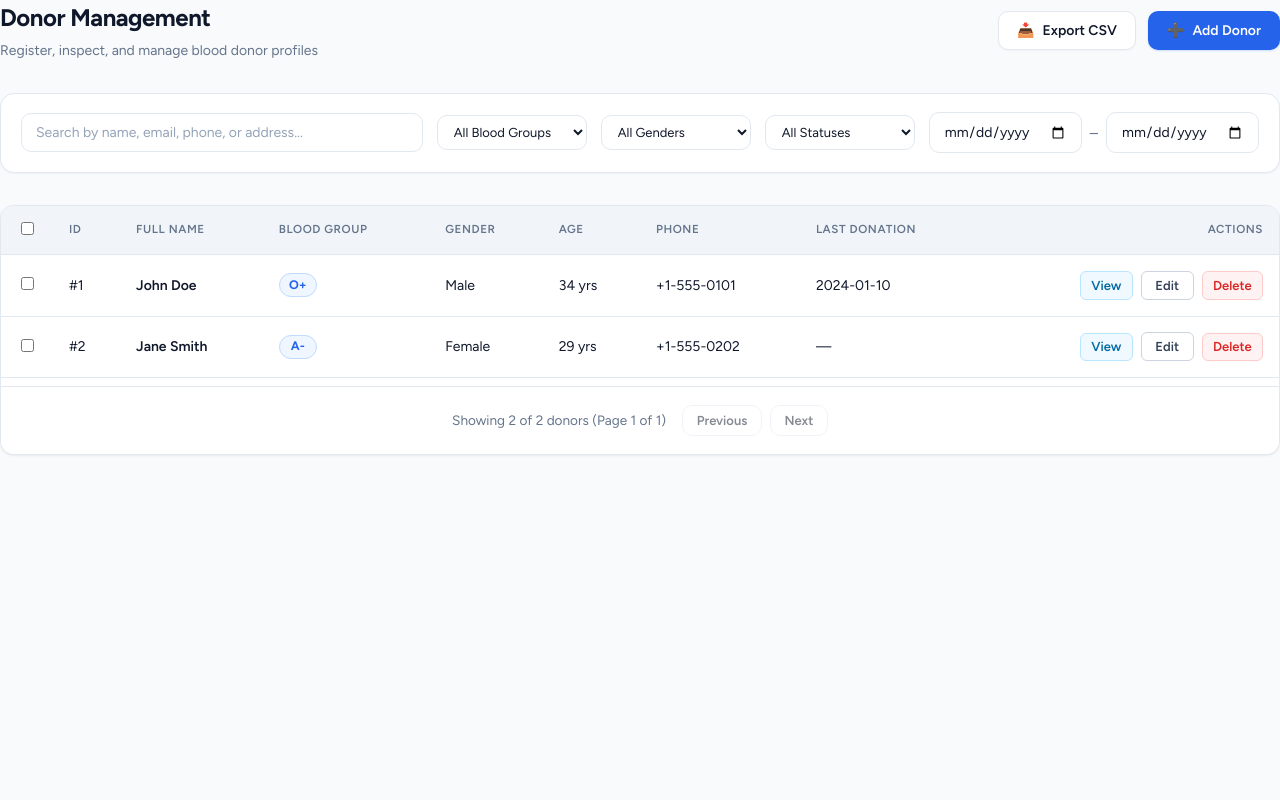
Scenario: Donors Page Component › submits valid Add Donor form and refreshes list
Click the button with test id "add-donor-btn" at {"x": 1214, "y": 30}, box [1148,11,1279,50]
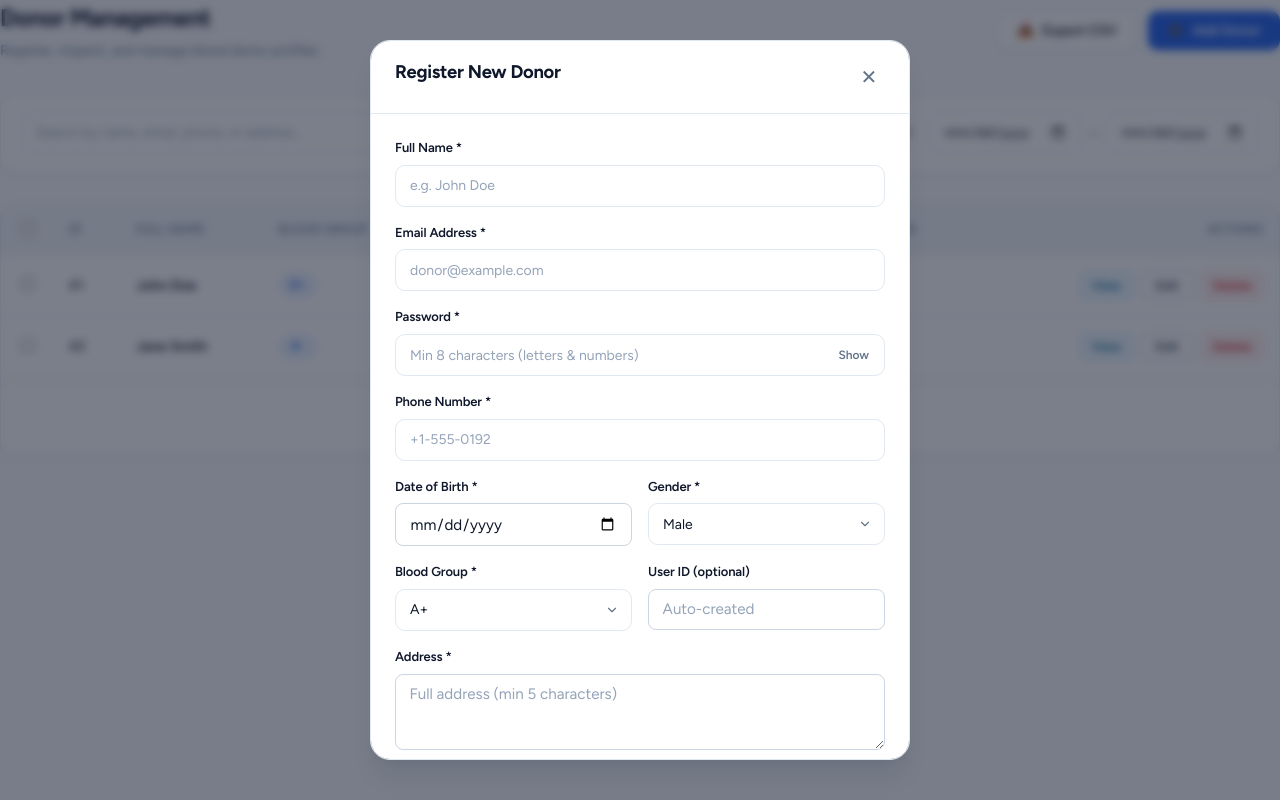
Type "New Test Donor" into the field labelled "Full Name *" at {"x": 640, "y": 186}, box [395,165,885,207]
Type "newdonor@example.com" into the field labelled "Email Address *" at {"x": 640, "y": 270}, box [395,249,885,291]
Type "SecurePass123!" into the password field labelled "Password *" at {"x": 640, "y": 355}, box [395,334,885,376]
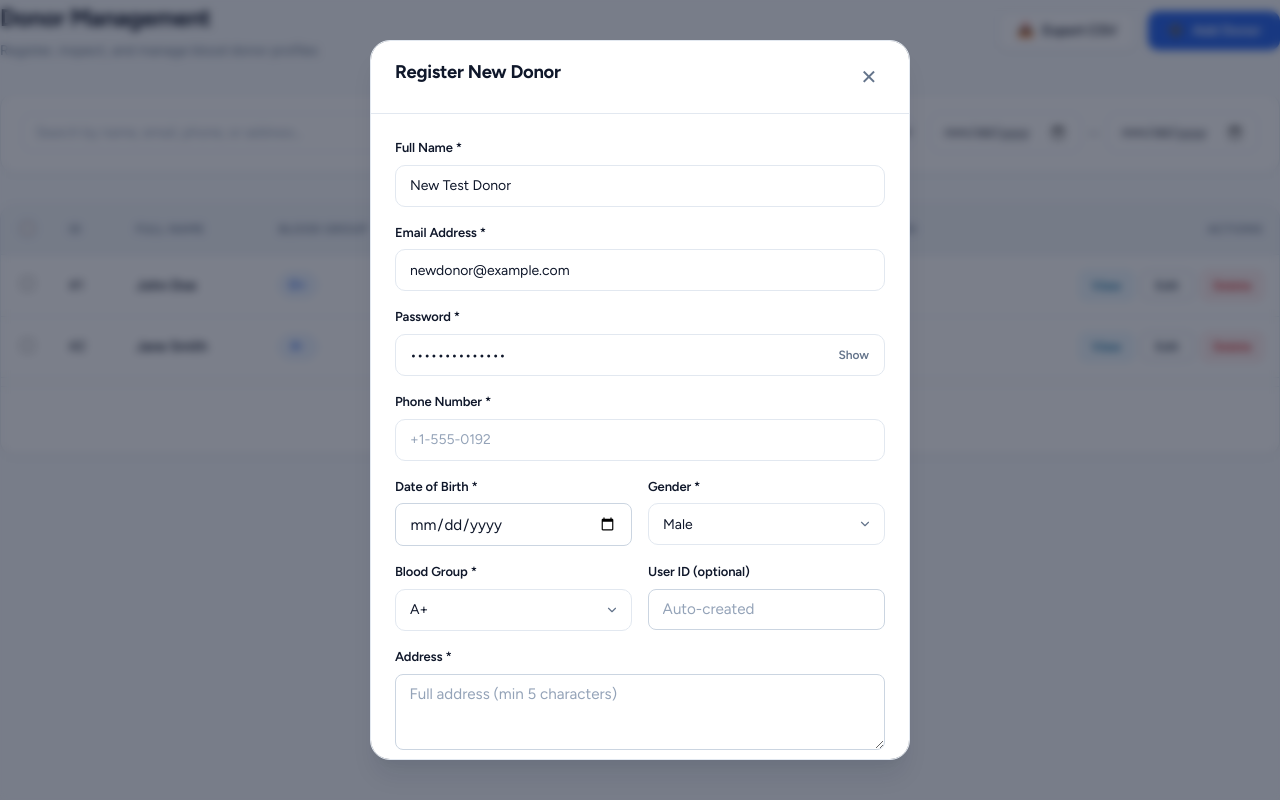
Type "+1-555-9999" into the field labelled "Phone Number *" at {"x": 640, "y": 440}, box [395,419,885,461]
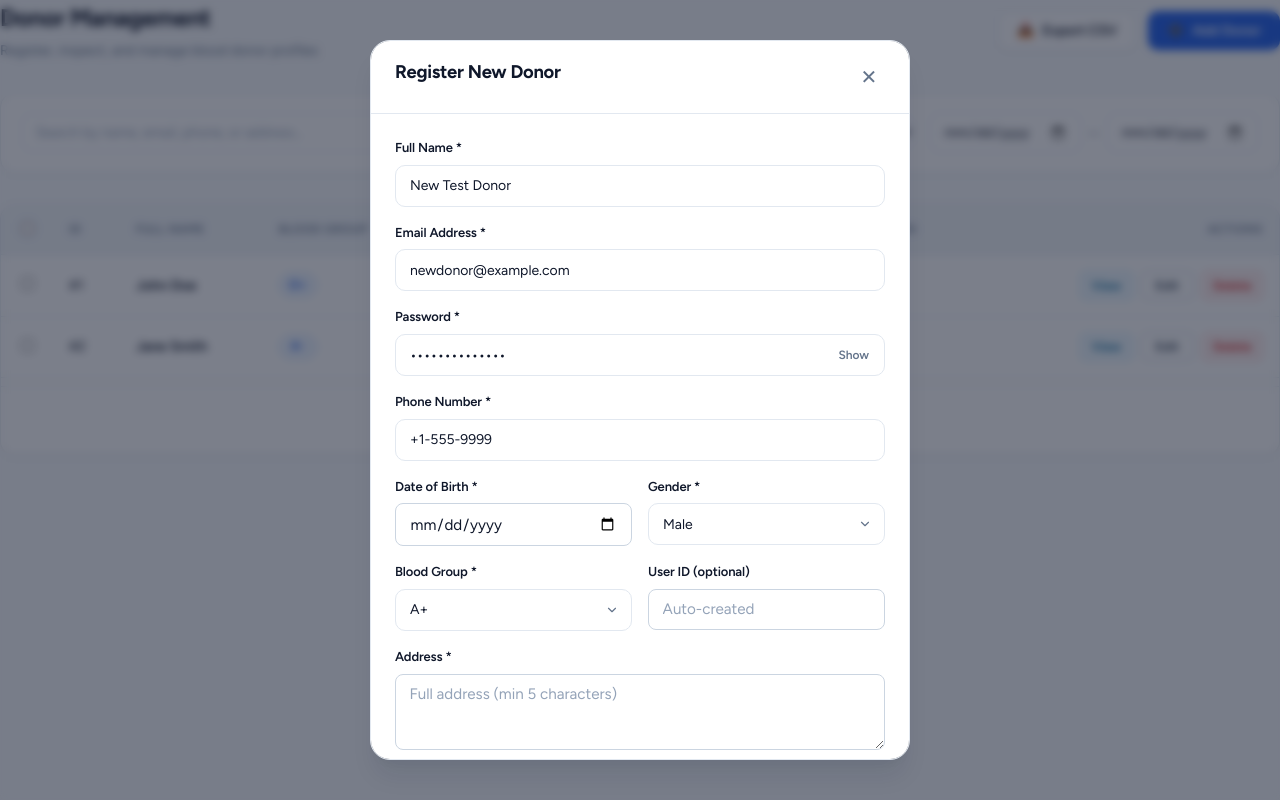
Type "1998-04-12" into the date field labelled "Date of Birth *" at {"x": 514, "y": 525}, box [395,503,632,546]
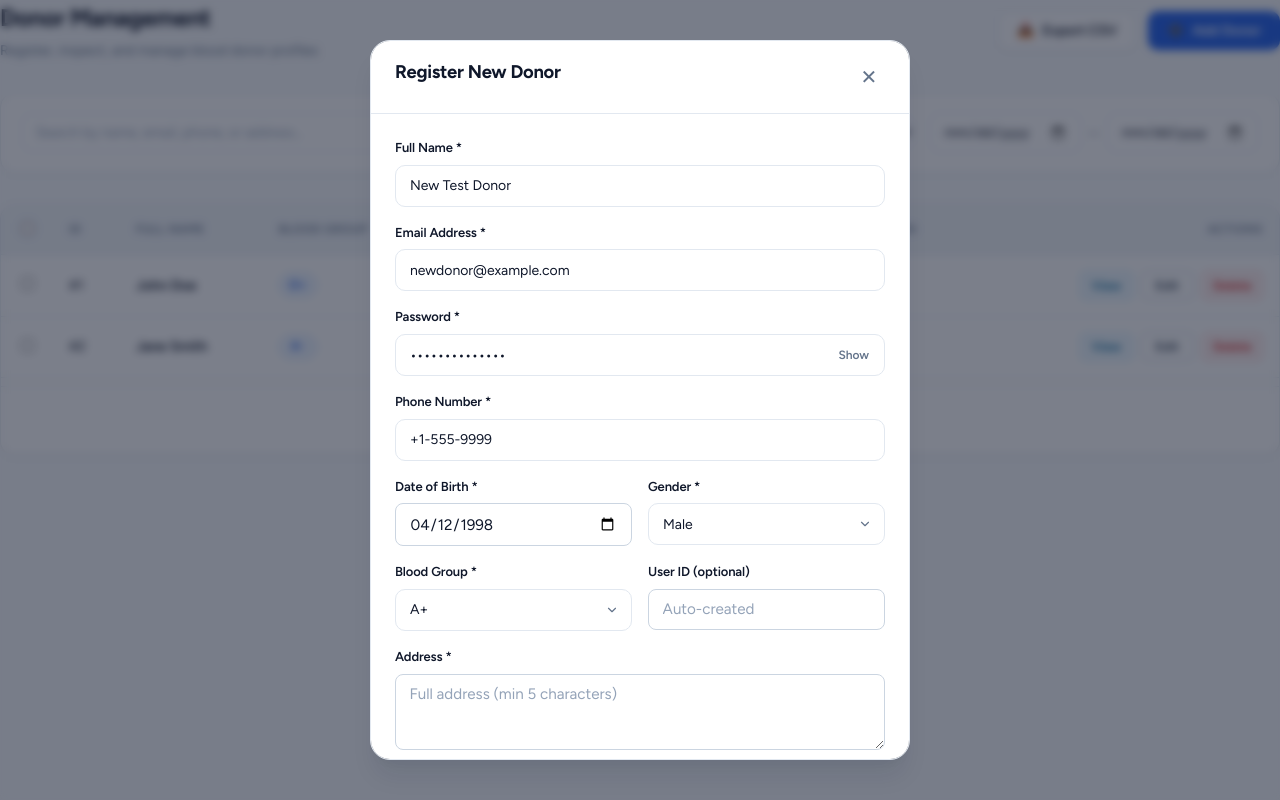
Type "789 Maple Drive, City" into the text box labelled "Address *" at {"x": 640, "y": 712}, box [395,674,885,750]
(page scrolled)
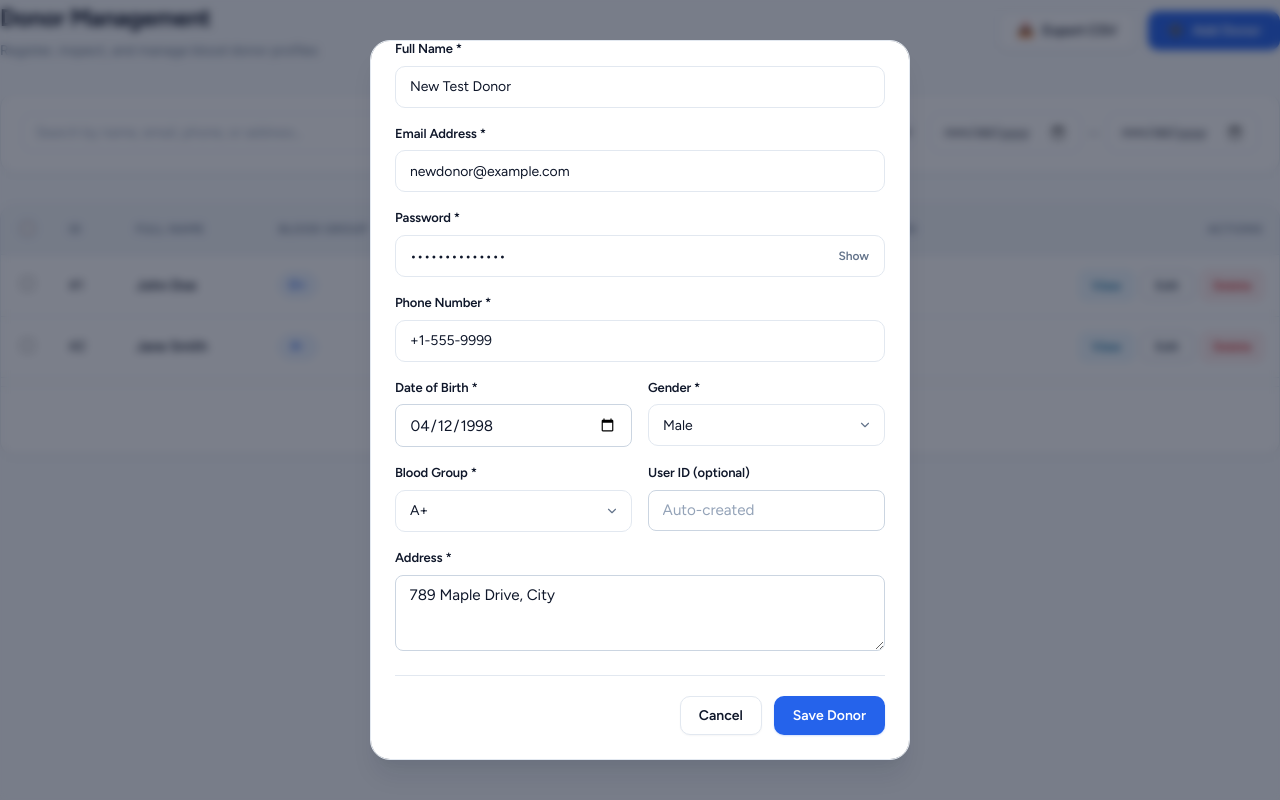
Click the button with test id "submit-donor-btn" at {"x": 829, "y": 716}, box [774,696,885,735]
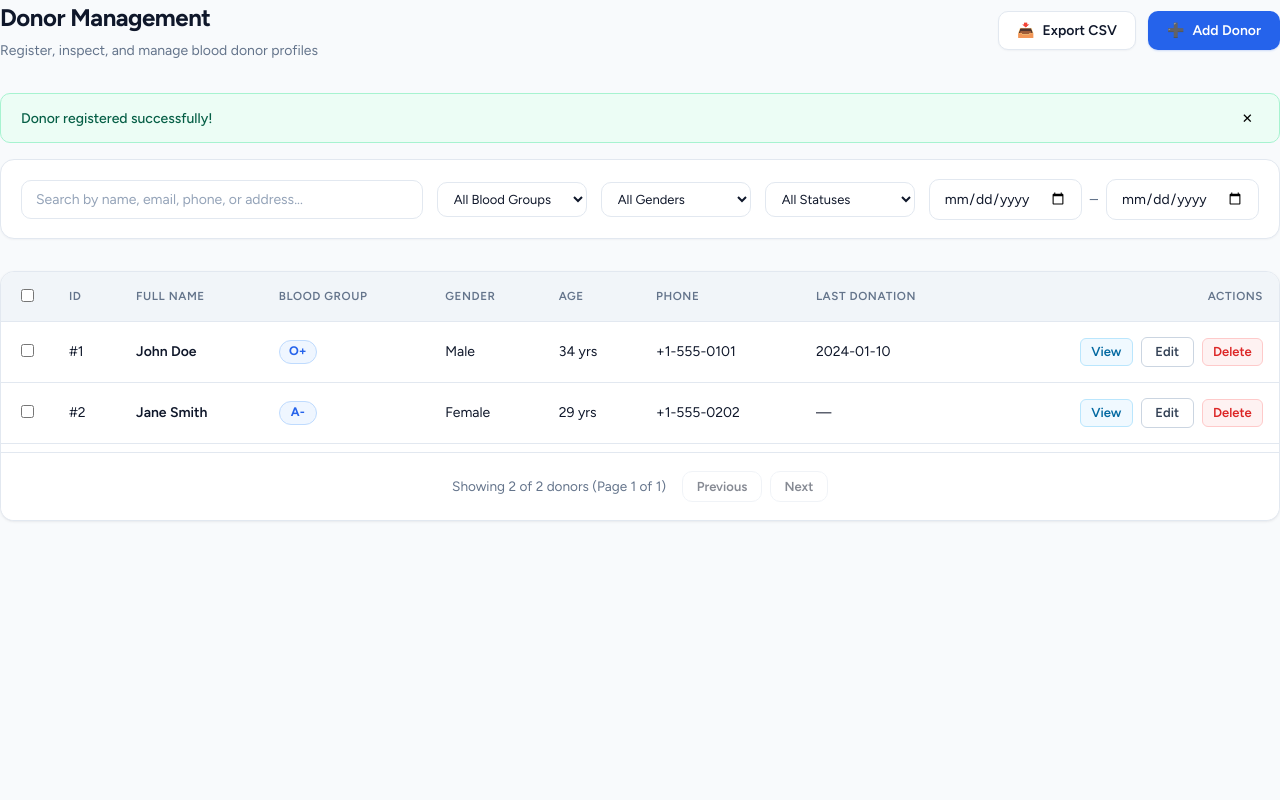
Expected: the text "Donor registered successfully!" is shown, [21,108,212,129]
